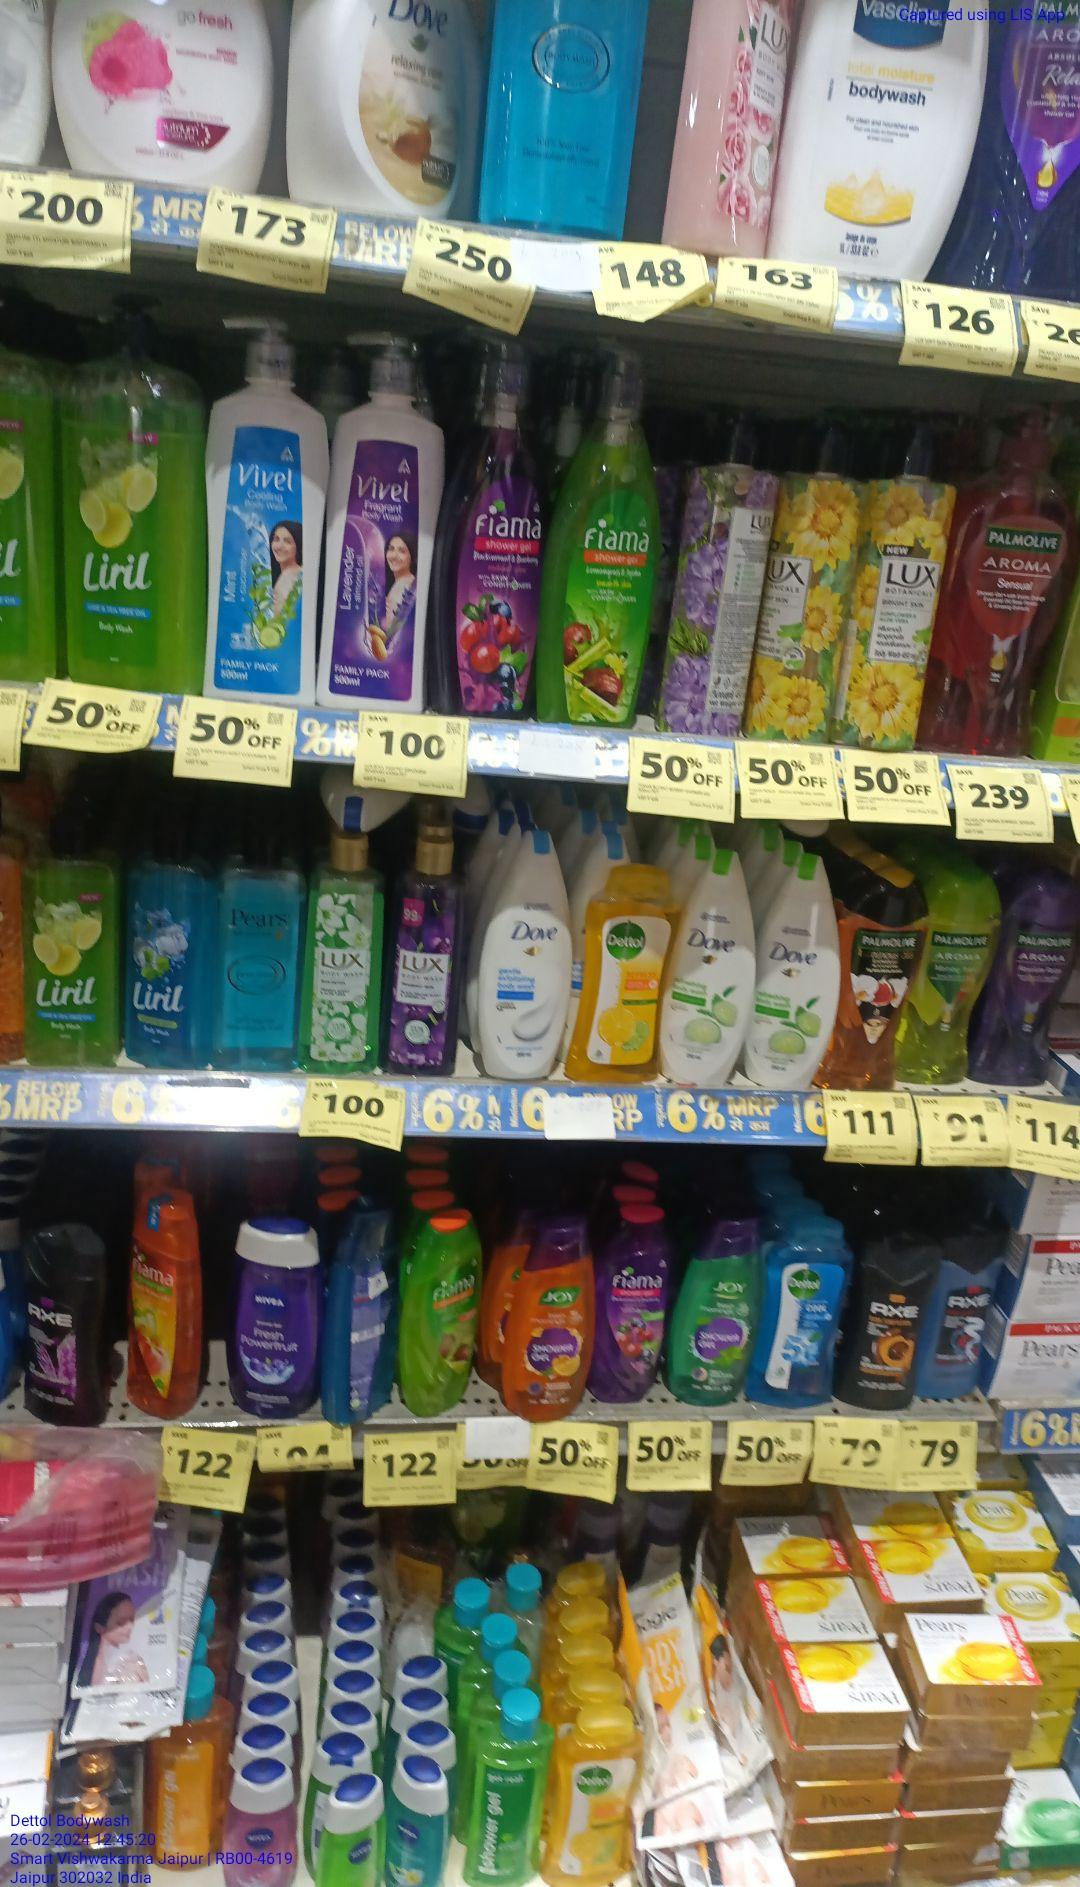Dettol_Bodywash_Cool: (748, 1221, 844, 1407)
Dettol_Bodywash_Refresh: (573, 861, 666, 1082), (552, 1702, 635, 1887)
Dove_Gentle_Exfoliating_Body_Wash_250ML: (477, 820, 570, 1080)
Dove_Refreshing_Body_Wash_250ML: (656, 846, 753, 1080), (758, 851, 836, 1089)
Fiama_Shower_Gel_Lemongrass_and_Jojoba_250ML: (397, 1212, 485, 1417)
Fiama_Shower_Gel_Peach_and_Avocado_250ML: (119, 1195, 211, 1420)
Joy_Shower_Gel_Mandarin_and_Lemongrass_250ML: (500, 1212, 594, 1426)
Lux_Black_Orchid_Scent_and_Juniper_Oil_Body_Wash_245ML: (386, 828, 460, 1073)
Lux_Body_Wash_Skin_Detox_Freesia_Scent_and_Alove_Vera_245ML: (302, 832, 386, 1077)
Nivea_Shower_Gel_Fresh_Powerfruit_250ML: (228, 1214, 322, 1423)
Palmolive_Aroma_Relax_250ML: (978, 880, 1076, 1090)
Palmolive_Luminous_Oils_With_White_Orchid_Shower_Gel_250ML: (831, 862, 926, 1098)
